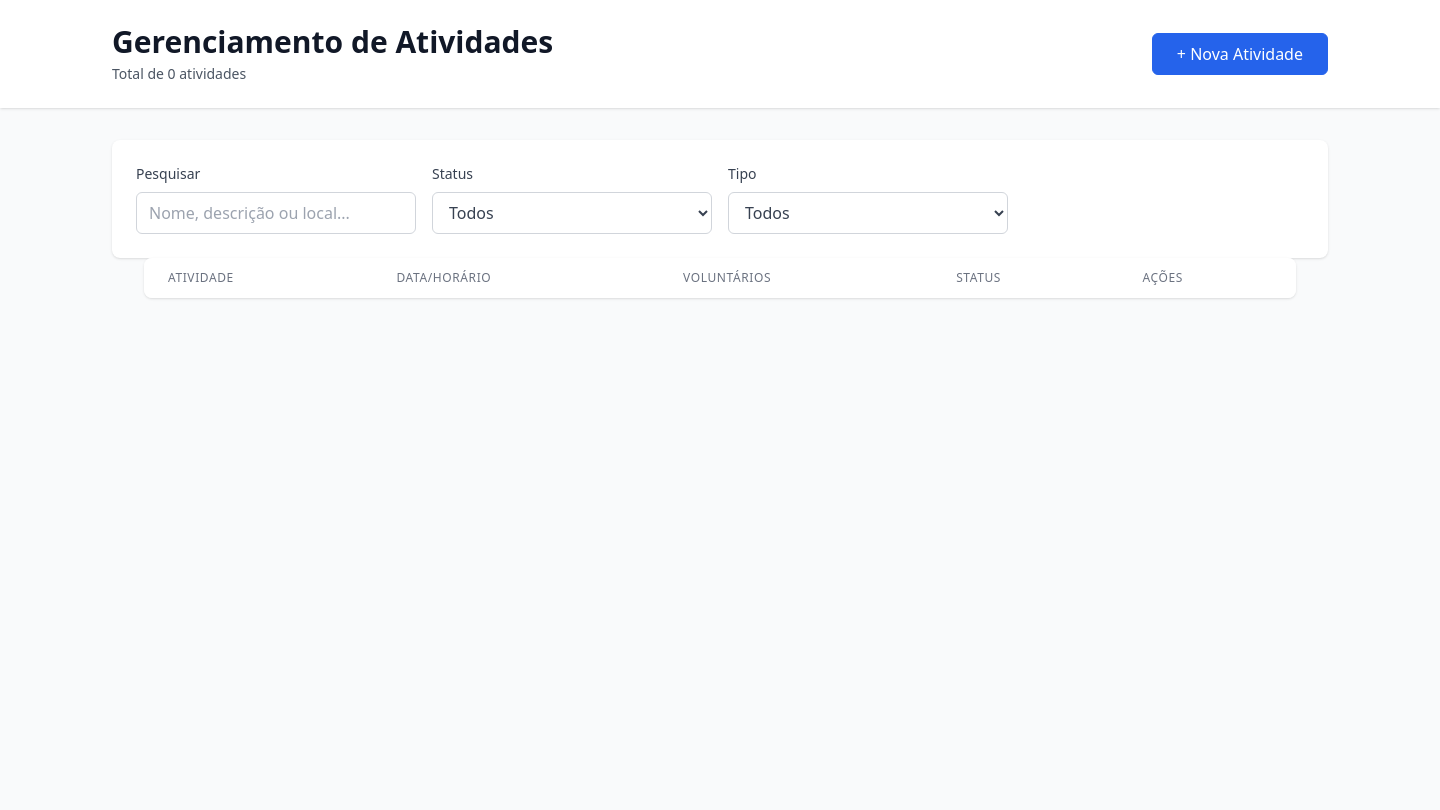
ONGActivitiesPage › Create Activity › should open create modal when clicking new activity button
The width and height of the screenshot is (1440, 810).
Click the button "+ Nova Atividade" at (1240,54), box [1152,33,1328,75]
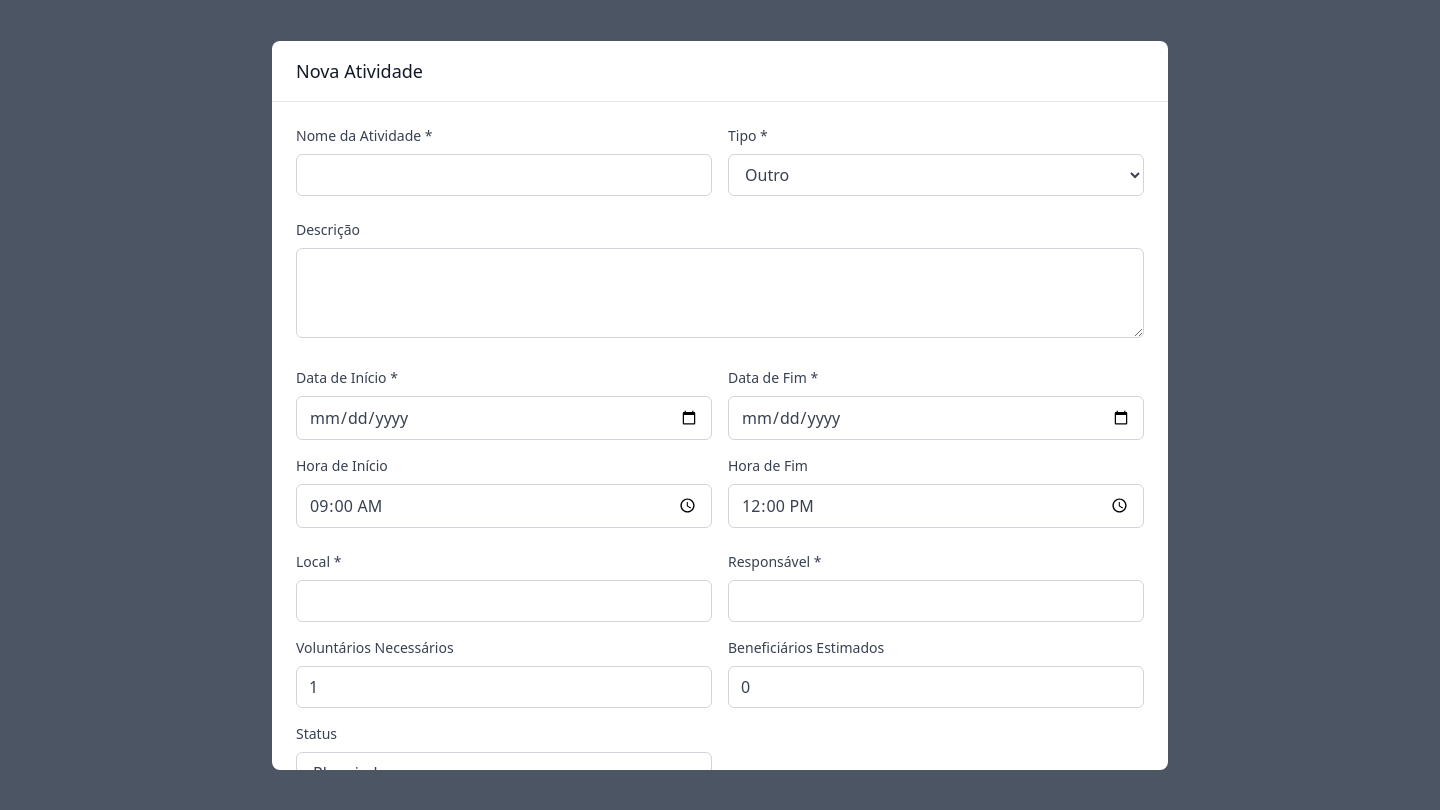
Check: the heading "Nova Atividade" is shown, box [296,58,423,82]
Check: the text "Nome da Atividade *" is shown, box [296,126,432,144]
